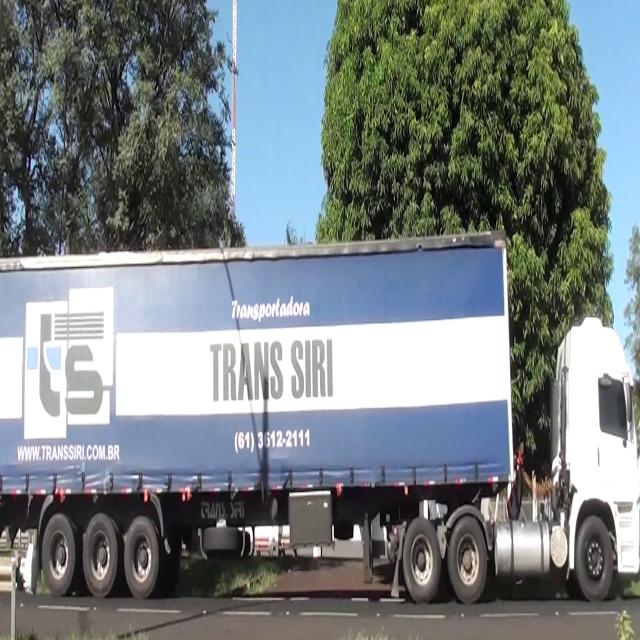-axle: (574, 510, 616, 604), (448, 515, 492, 604), (83, 518, 119, 602), (125, 514, 158, 604), (43, 516, 78, 589), (405, 518, 435, 596)
